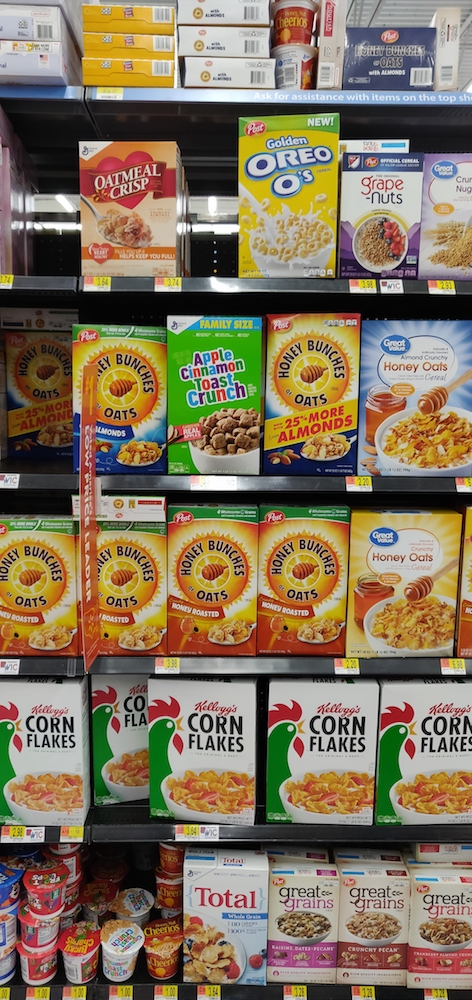Oreo Golden-568301011: (237, 118, 344, 279)
